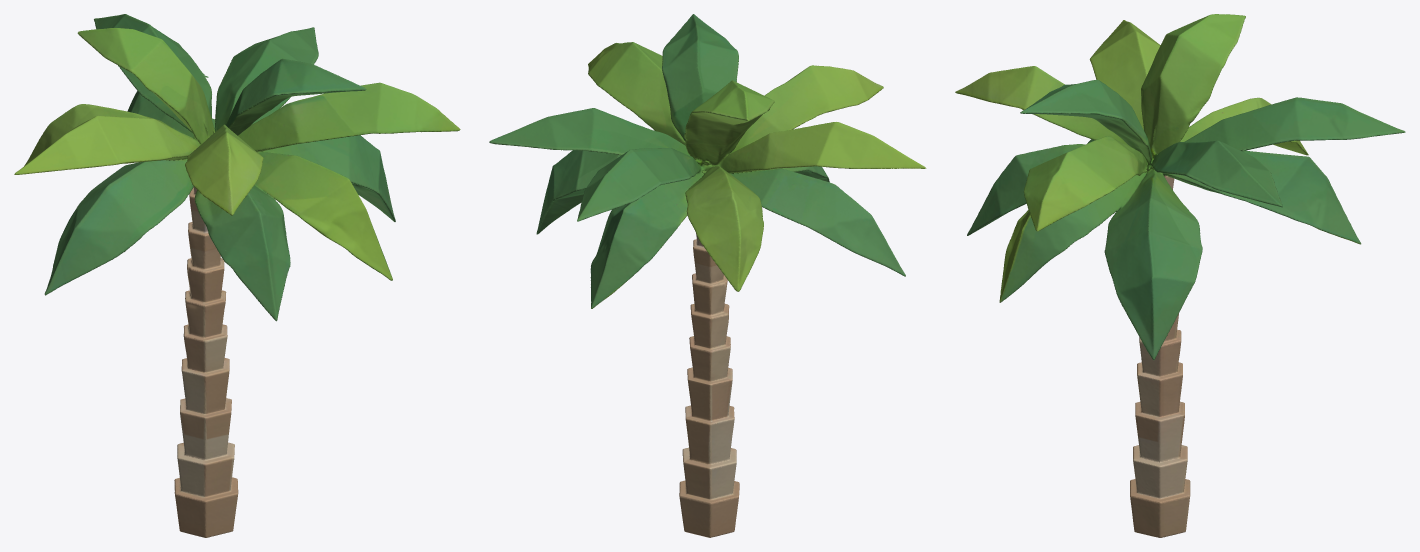
Rendered from tripo_convert_a69a50d3-f4c3-4e15-ac17-265994b95ecd.fbx.
3 views of the same model, side by side, from view 1: azimuth 30°, elevation 25°; view 2: azimuth 150°, elevation 25°; view 3: azimuth 270°, elevation 25° (orthographic). The views are drawn at different scales.
Parts seen in each view (by area): view 1: tripo_node_a69a50d3; view 2: tripo_node_a69a50d3; view 3: tripo_node_a69a50d3.
Part boxes in pixels (x1,y1,x2,y2): tripo_node_a69a50d3: [14, 14, 460, 537]; tripo_node_a69a50d3: [489, 14, 926, 537]; tripo_node_a69a50d3: [955, 14, 1405, 537].
Bounding box in the file's own units: 0.852 × 1 × 0.848.
